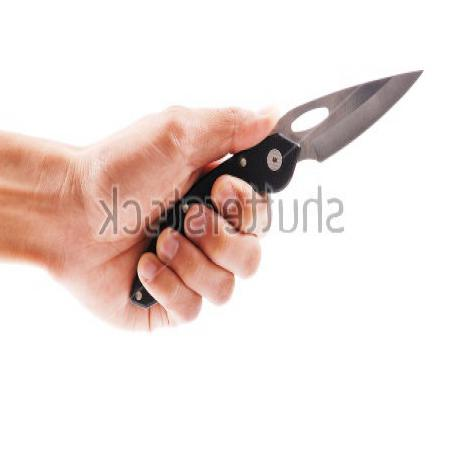long weapon: (222, 61, 429, 194)
